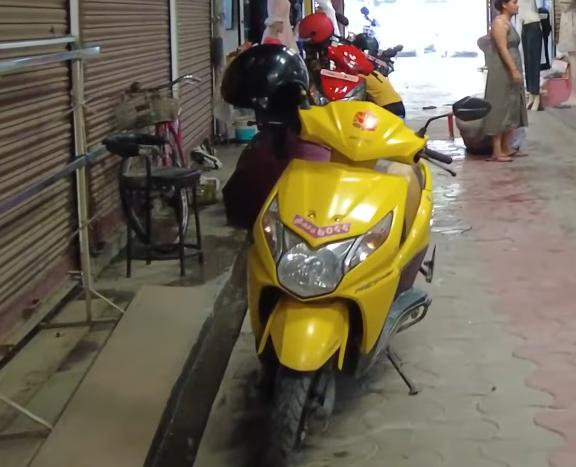scooter: (229, 92, 493, 467)
